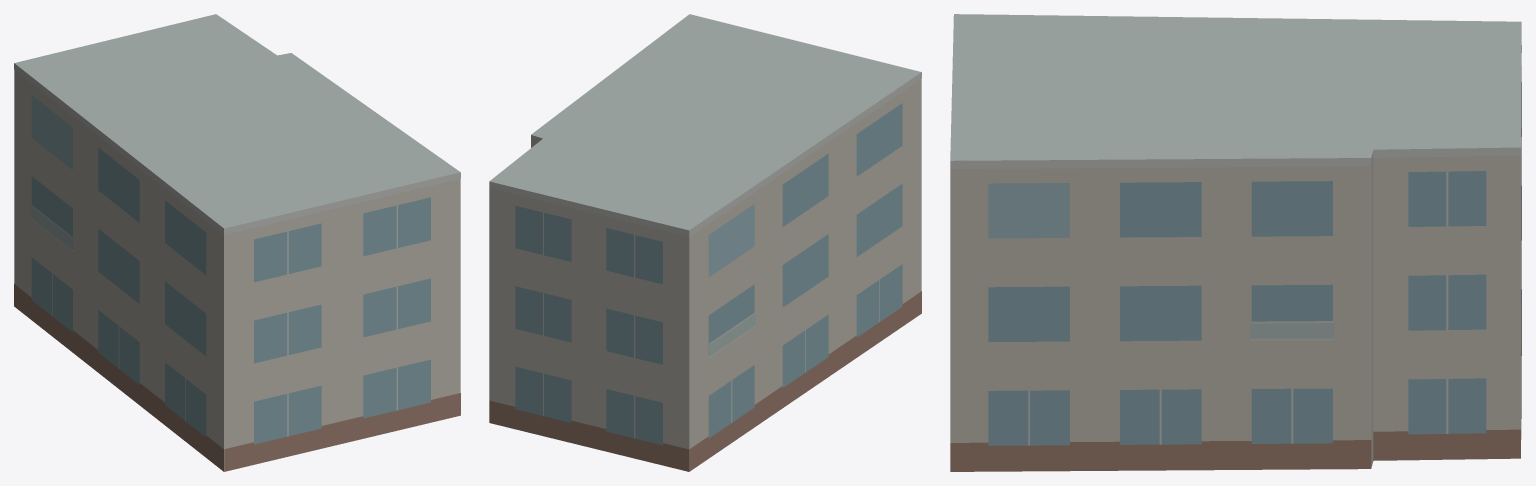
The model's file is survey-upis-32718338.glb.
3 renders of one model, left to right at view 1: azimuth 30°, elevation 25°; view 2: azimuth 150°, elevation 25°; view 3: azimuth 270°, elevation 25°, orthographic. The views are drawn at different scales.
Parts seen in each view (by area): view 1: survey-upis-32718338.tmp; view 2: survey-upis-32718338.tmp; view 3: survey-upis-32718338.tmp.
Boxes of the visible parts, bbox=[...] form: survey-upis-32718338.tmp: bbox=[14, 14, 460, 471]; survey-upis-32718338.tmp: bbox=[489, 14, 921, 471]; survey-upis-32718338.tmp: bbox=[950, 14, 1521, 471].
Size of the model in its own units: 9.27 by 9.15 by 15.25.
